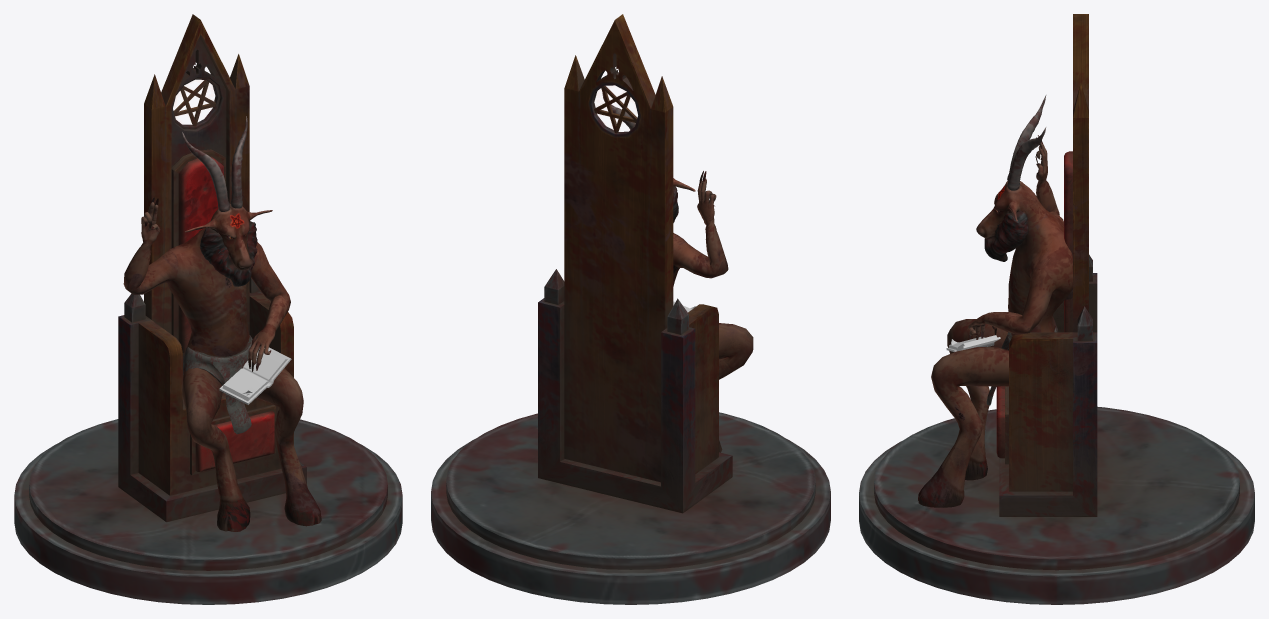
3 views of the same model, side by side, from view 1: azimuth 30°, elevation 25°; view 2: azimuth 150°, elevation 25°; view 3: azimuth 270°, elevation 25° (orthographic). The views are drawn at different scales.
Parts seen in each view (by area): view 1: Circle.001, Cube.006, Ba, Clothobj, Plane.001; view 2: Cube.006, Circle.001, Ba; view 3: Circle.001, Cube.006, Ba.
Part boxes in pixels (x1,y1,x2,y2): Circle.001: (14,419,402,604); Cube.006: (118,14,306,522); Ba: (123,116,321,531); Clothobj: (183,335,252,434); Plane.001: (219,347,291,404); Cube.006: (538,14,732,513); Circle.001: (431,412,830,604); Ba: (602,93,753,452); Circle.001: (859,406,1254,604); Cube.006: (996,14,1097,516); Ba: (918,95,1072,507).
Size of the model in its own units: 169 by 239 by 169.
